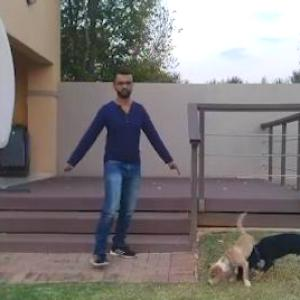land: (58, 72, 179, 270)
